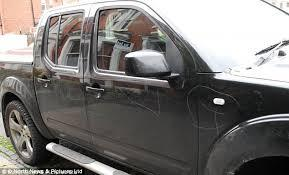fender-dent: (205, 74, 265, 161)
